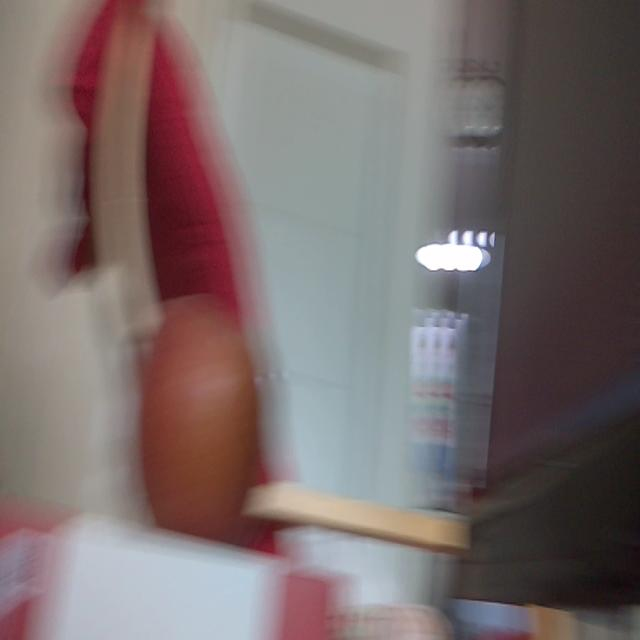apple: (142, 294, 257, 530)
